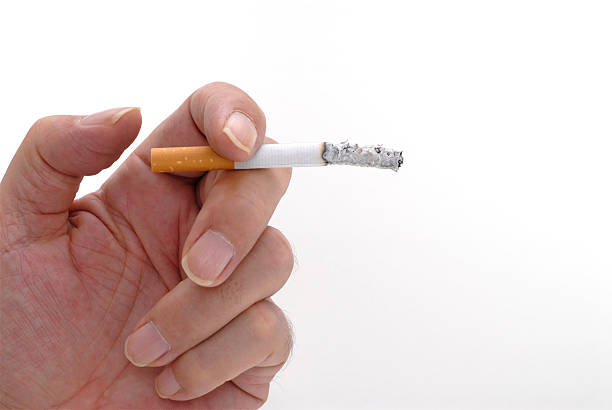cigarette: (150, 141, 403, 179)
